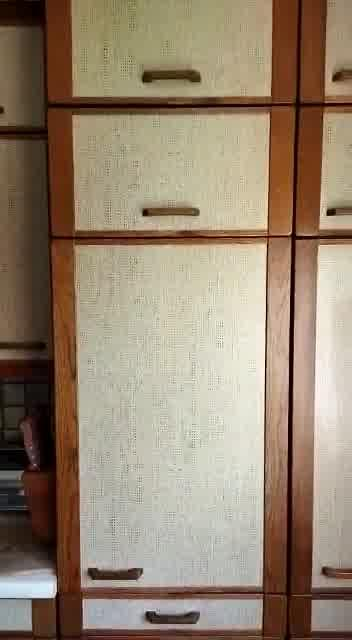cabinet_door: (45, 235, 282, 600), (48, 106, 295, 240), (44, 0, 301, 107), (291, 235, 351, 599), (47, 587, 283, 637), (296, 102, 352, 238), (298, 0, 350, 105)
handle: (138, 56, 202, 92), (139, 193, 201, 226), (85, 556, 144, 589), (144, 603, 201, 630), (318, 558, 352, 587), (323, 199, 352, 222), (331, 58, 352, 88)
